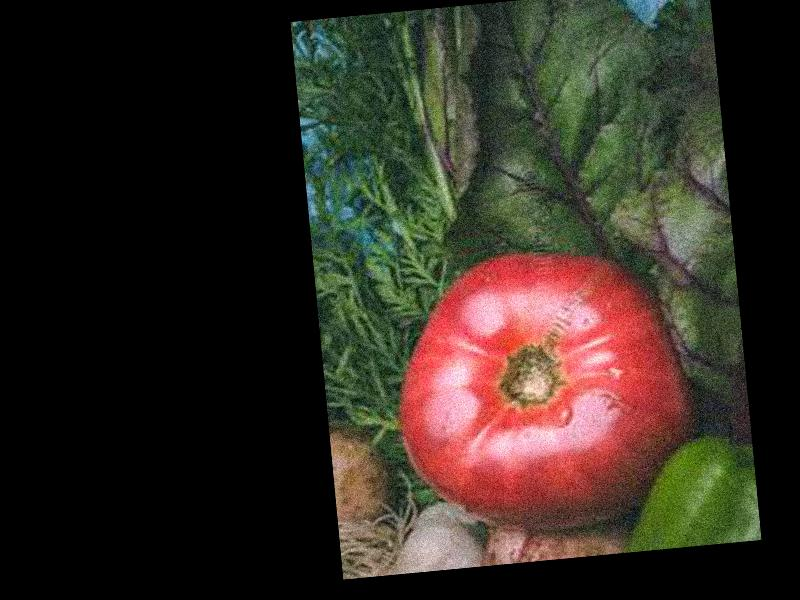Tomato: (385, 239, 706, 546)
